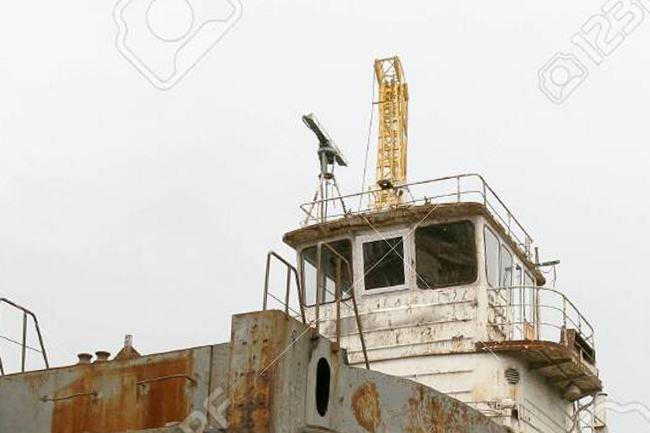rust: (58, 354, 192, 432), (288, 205, 475, 247), (488, 343, 598, 398), (232, 316, 279, 430), (409, 384, 477, 433), (349, 383, 387, 426)
